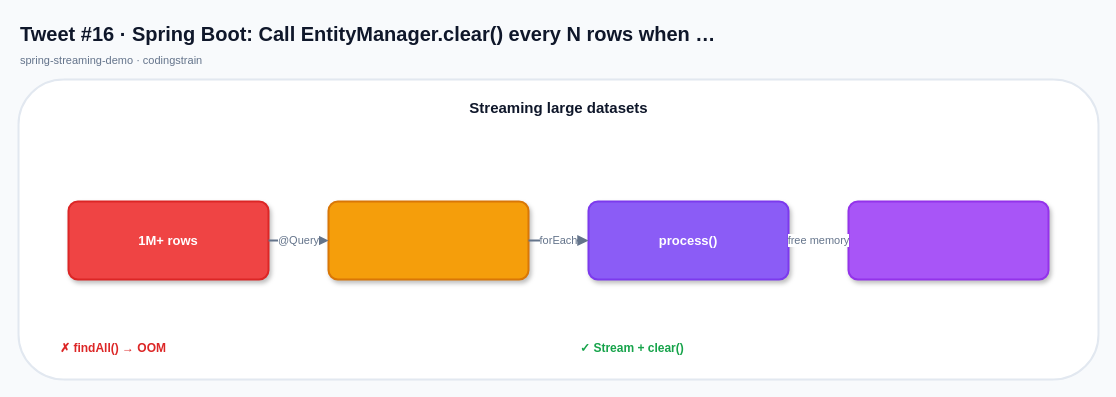
This 1116x397 diagram has some shape labels left out. The shapes that lost their labels are listed below. From the top down, each one's centre as x and y in pixels, then its label:
the point at 429,241: Stream<User>
the point at 949,241: em.clear() every N
